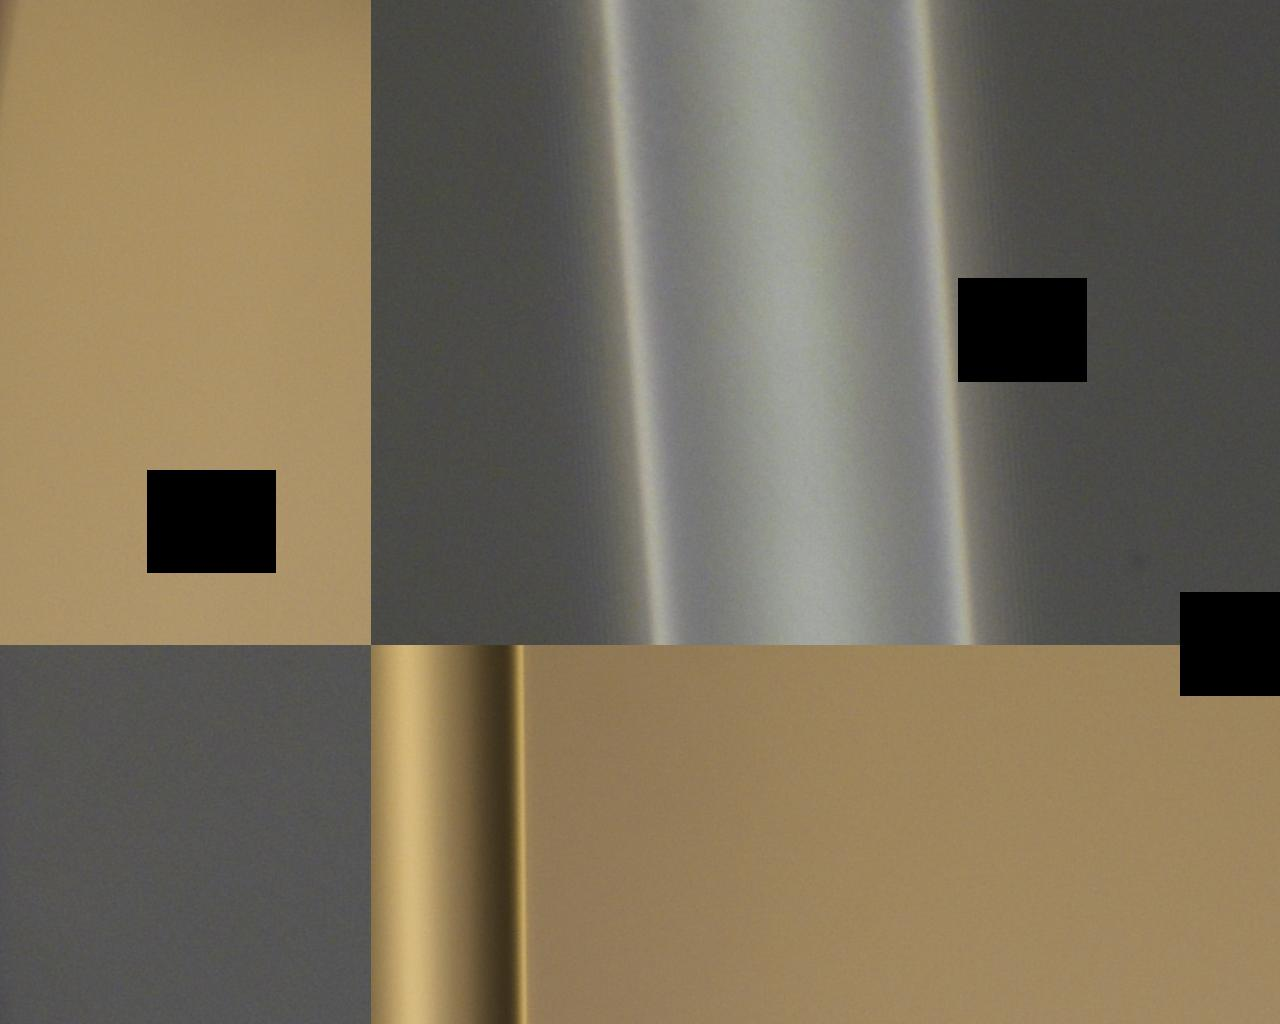fiber: (630, 0, 742, 1024)
